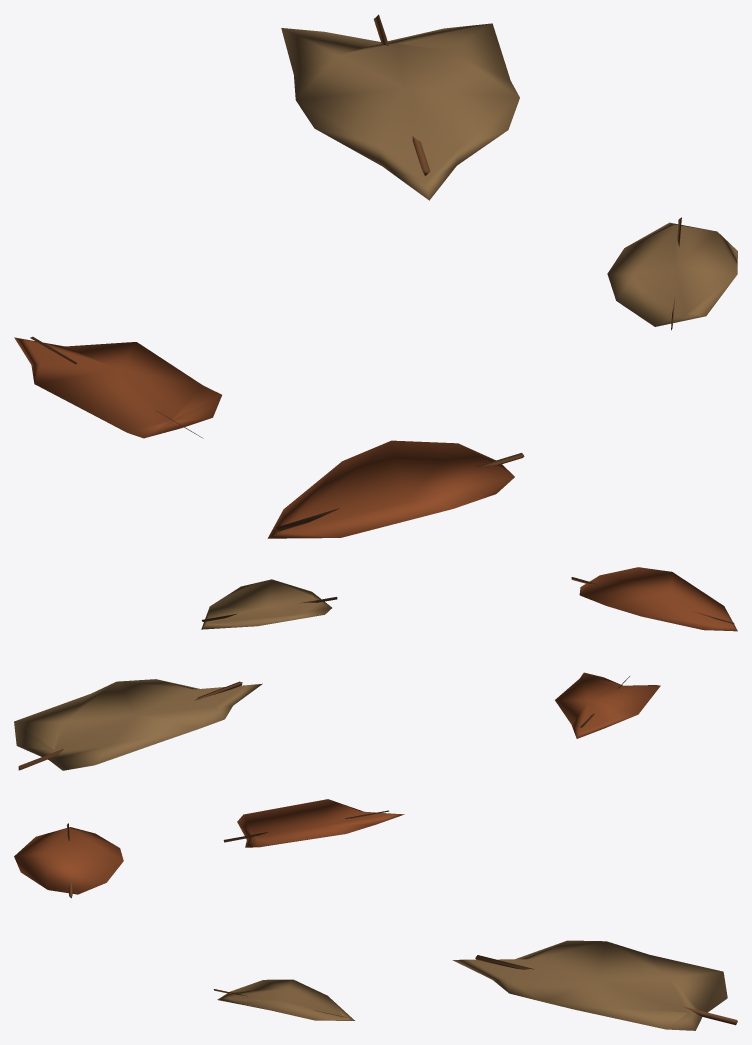
The model's file is mire_gc_leaves_a_lod2.glb.
The picture shows the model from 3 angles, top to bottom: view 1: azimuth 30°, elevation 25°; view 2: azimuth 150°, elevation 25°; view 3: azimuth 270°, elevation 25°; orthographic projection. The views are drawn at different scales.
Parts seen in each view (by area): view 1: mire_gc_leaves_a.001; view 2: mire_gc_leaves_a.001; view 3: mire_gc_leaves_a.001.
Part boxes in pixels (left/top/right/bottom): mire_gc_leaves_a.001: left=14, top=14, right=737, bottom=538; mire_gc_leaves_a.001: left=14, top=567, right=737, bottom=770; mire_gc_leaves_a.001: left=14, top=799, right=737, bottom=1030.
Size of the model in its own units: 3.85 by 0.199 by 5.09.
